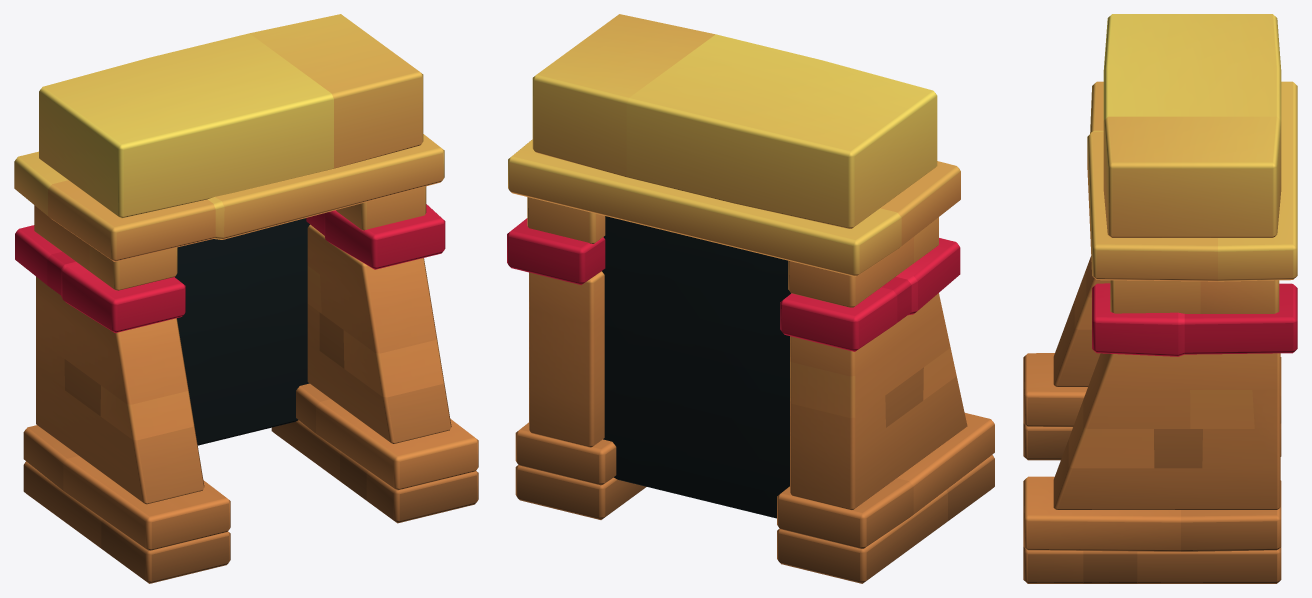
File: entrance_2.fbx
3 views of the same model, side by side, from view 1: azimuth 30°, elevation 25°; view 2: azimuth 150°, elevation 25°; view 3: azimuth 270°, elevation 25° (orthographic). The views are drawn at different scales.
Visible parts, largest first — view 1: entrance_2; view 2: entrance_2; view 3: entrance_2.
Part boxes in pixels (box(x1,y1,x2,y2)): entrance_2: box(14, 14, 478, 583); entrance_2: box(507, 14, 994, 583); entrance_2: box(1023, 14, 1297, 583).
Bounding box in the file's own units: 555 × 628 × 375.
